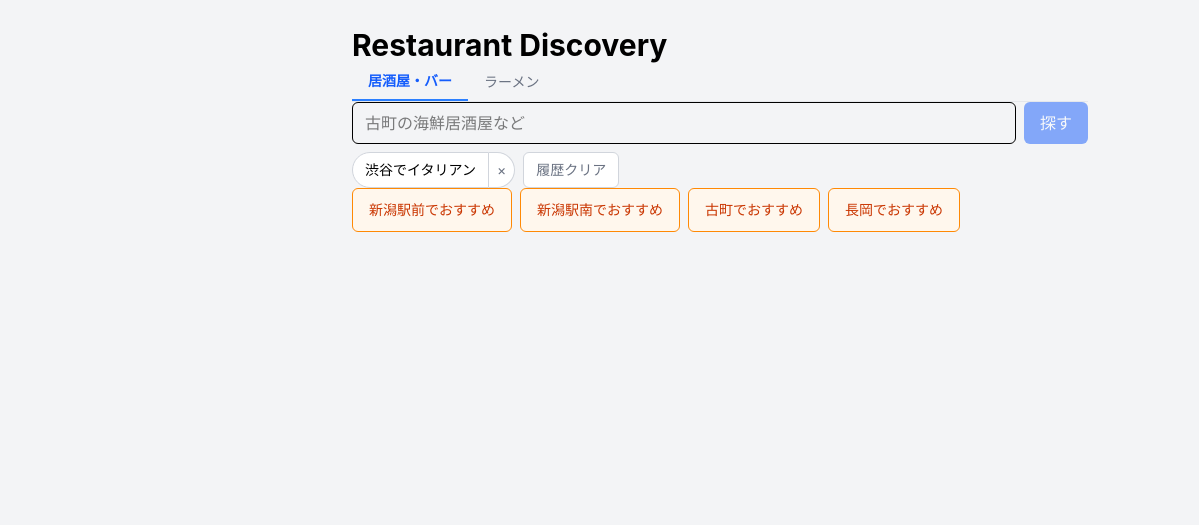
Test: App - refine-recommendation統合 › 再レコメンド成功時に推薦結果・条件タグが更新される（Req 6.1）
Type "渋谷でイタリアン" into the field at (684, 123), box [352,102,1016,144]
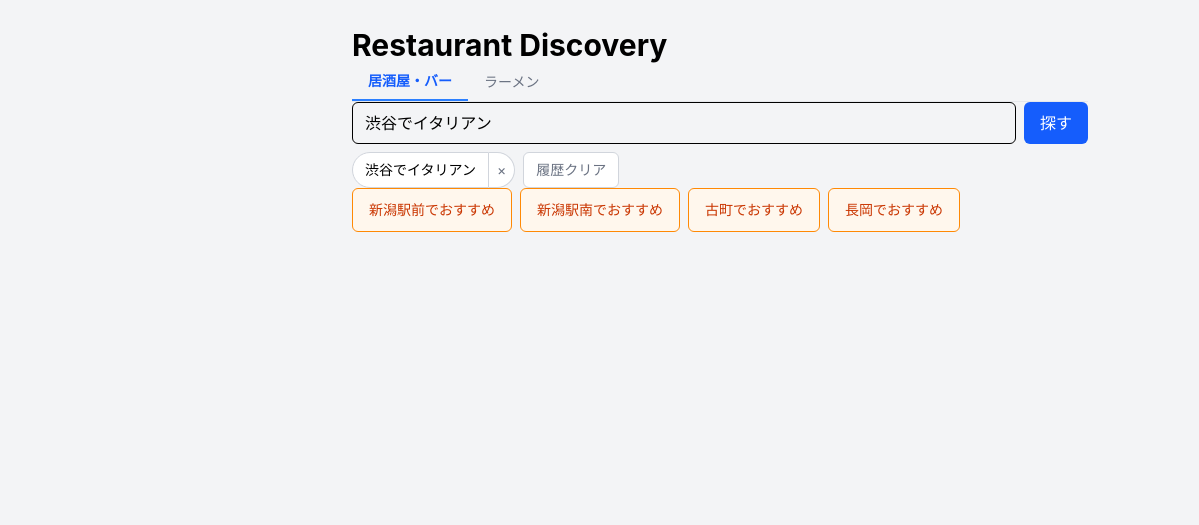
Submit the form, box [352,102,1088,144]
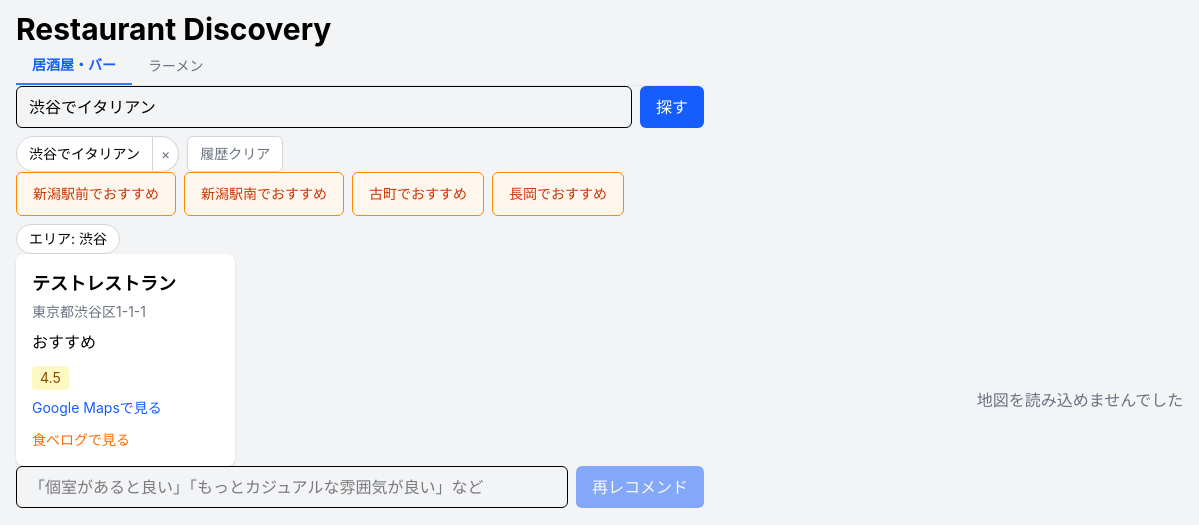
expect the heading "テストレストラン" is shown: met, box [32,273,176,294]
Type "個室があると良い" into the field named "フィードバック入力" at (292, 487), box [16,466,568,508]
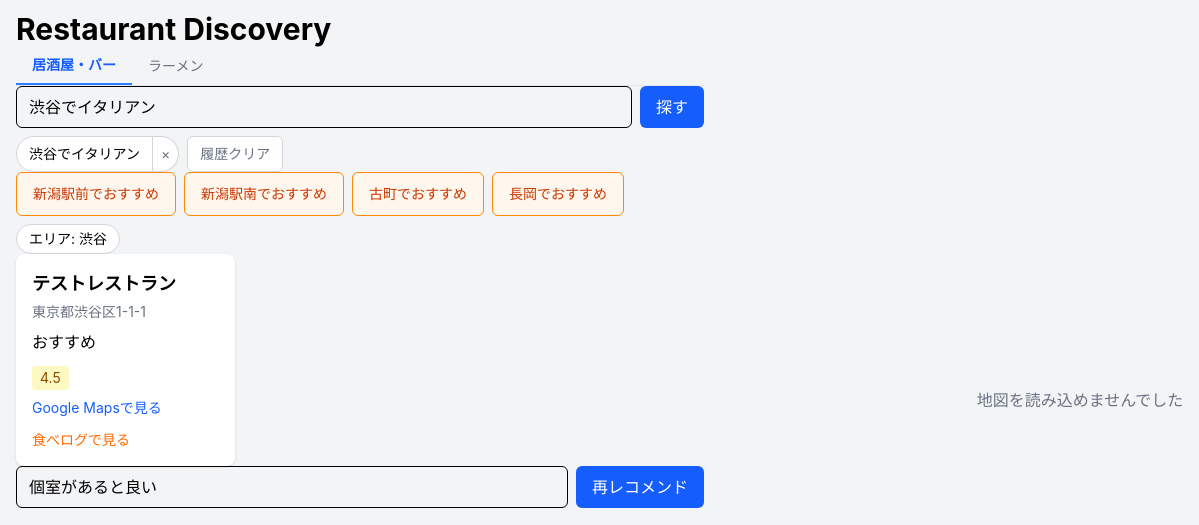
Click the button "再レコメンド" at (640, 487), box [576,466,704,508]
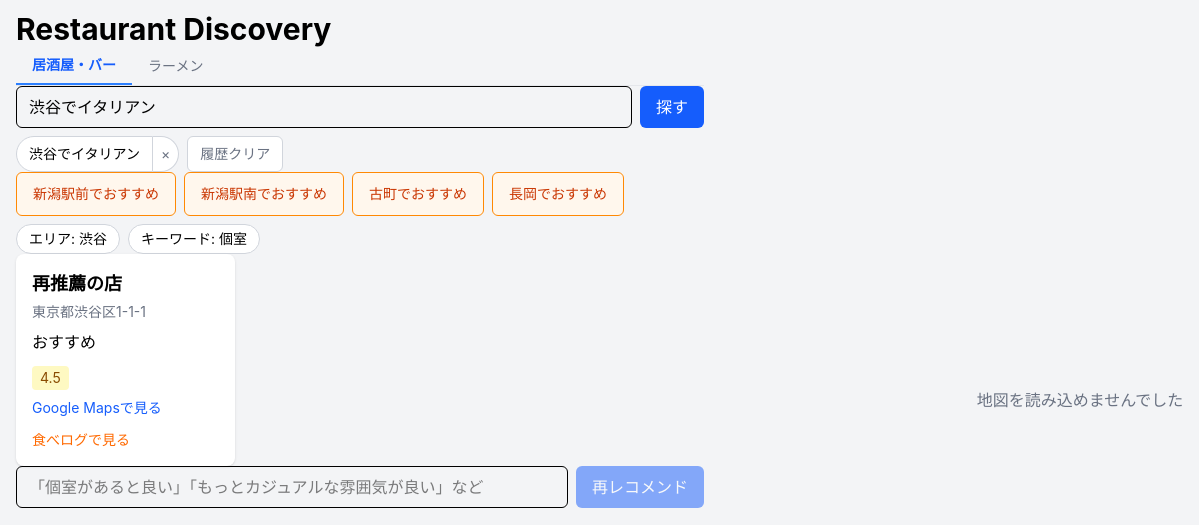
expect the heading "再推薦の店" is shown: met, box [32,273,122,294]
expect the heading "テストレストラン" is gone: met
expect the text "キーワード: 個室" is shown: met, box [128,224,260,254]
